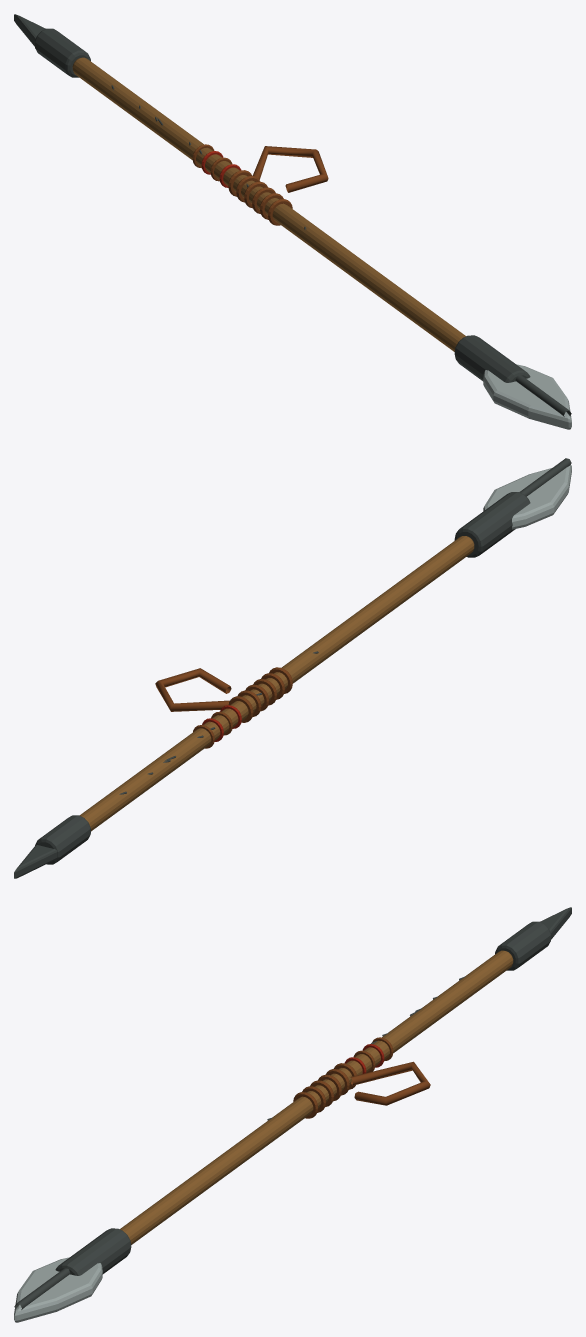
Rendered from akontion_javelin_LOD0.glb.
3 renders of one model, top to bottom at view 1: azimuth 30°, elevation 25°; view 2: azimuth 150°, elevation 25°; view 3: azimuth 330°, elevation 25°, orthographic.
Parts seen in each view (by area): view 1: AkontionAshShaft, AkontionWillowLeafHead, AkontionIronSocket, AkontionButtSocket, AkontionAmentumFreeStrap, AkontionHeadRib; view 2: AkontionAshShaft, AkontionWillowLeafHead, AkontionIronSocket, AkontionButtSocket, AkontionAmentumFreeStrap, AkontionButtSpike; view 3: AkontionAshShaft, AkontionWillowLeafHead, AkontionIronSocket, AkontionAmentumFreeStrap, AkontionButtSocket, AkontionHeadRib.
Part boxes in pixels (<box>): AkontionAshShaft: <box>72,57,465,351</box>; AkontionWillowLeafHead: <box>483,364,571,429</box>; AkontionIronSocket: <box>454,335,530,382</box>; AkontionButtSocket: <box>34,28,90,77</box>; AkontionAmentumFreeStrap: <box>252,146,328,192</box>; AkontionHeadRib: <box>515,375,571,416</box>; AkontionAshShaft: <box>79,536,474,831</box>; AkontionWillowLeafHead: <box>483,464,571,529</box>; AkontionIronSocket: <box>454,492,530,557</box>; AkontionButtSocket: <box>35,815,90,864</box>; AkontionAmentumFreeStrap: <box>155,668,231,711</box>; AkontionButtSpike: <box>14,845,57,878</box>; AkontionAshShaft: <box>120,950,513,1244</box>; AkontionWillowLeafHead: <box>14,1257,102,1322</box>; AkontionIronSocket: <box>55,1228,131,1275</box>; AkontionAmentumFreeStrap: <box>350,1061,430,1105</box>; AkontionButtSocket: <box>495,921,551,970</box>; AkontionHeadRib: <box>14,1268,70,1309</box>.
Bounding box in the file's own units: 0.2876 × 0.074 × 2.47.
